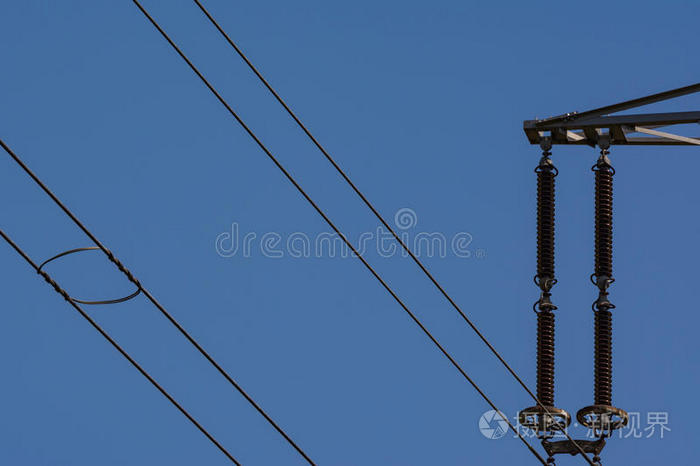insulator: (534, 169, 560, 283), (592, 166, 617, 282), (534, 313, 560, 408), (591, 309, 616, 407)
